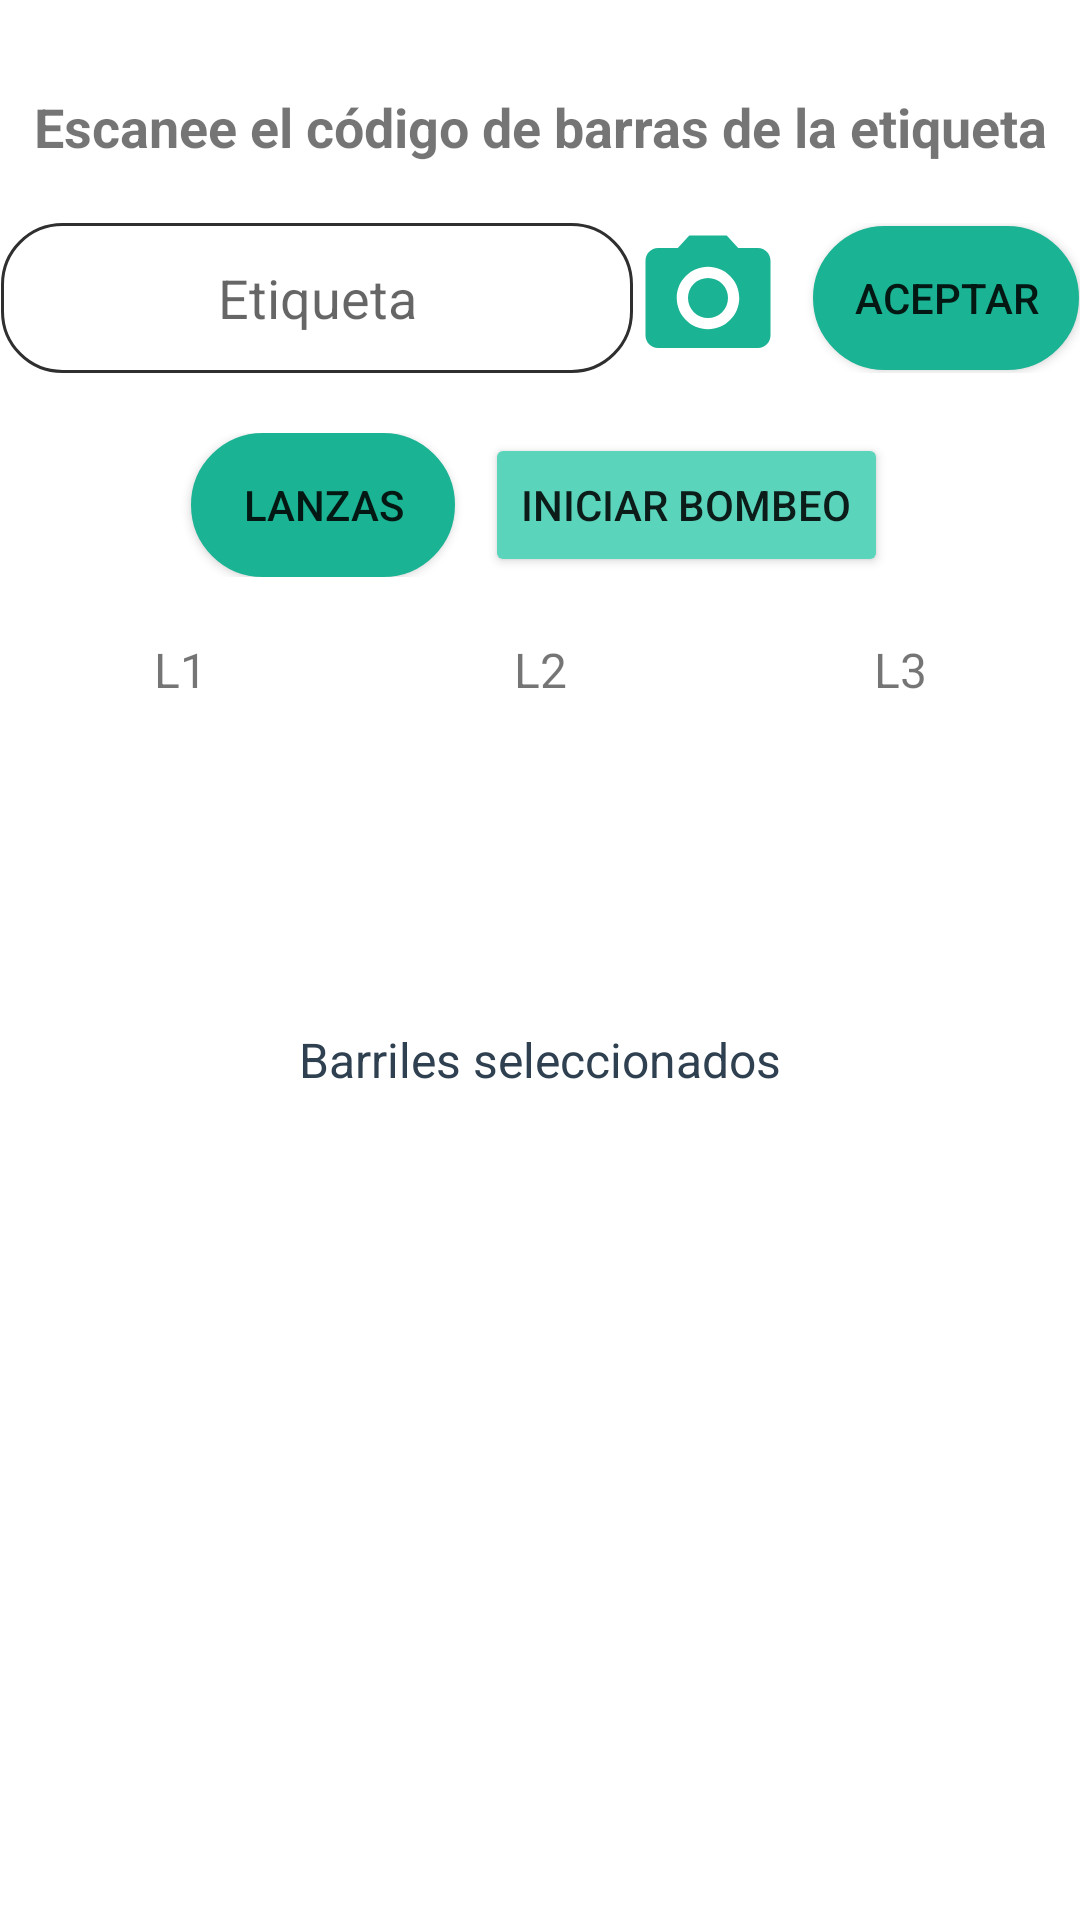

Icons on this 1080×1920 Android screen, each with the point to tap as [x,y]:
photo camera: [708,291]
